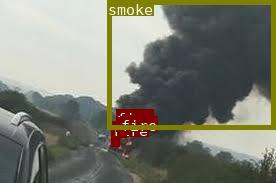fire: (110, 137, 119, 145), (115, 125, 124, 130), (119, 131, 125, 136)
smoke: (106, 0, 274, 128)
